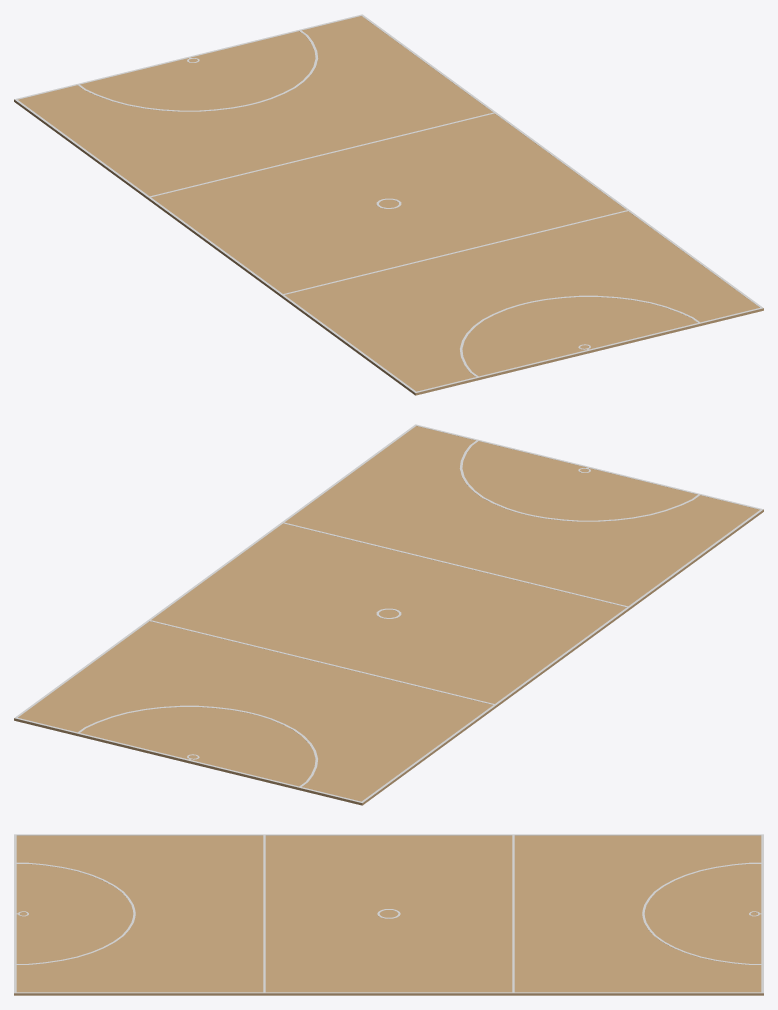
The model's file is Netball Court.fbx.
3 renders of one model, top to bottom at view 1: azimuth 30°, elevation 25°; view 2: azimuth 150°, elevation 25°; view 3: azimuth 270°, elevation 25°, orthographic. The views are drawn at different scales.
Visible parts, largest first — view 1: Netball Court; view 2: Netball Court; view 3: Netball Court.
Boxes of the visible parts, x1,y1,x2,y2 form: Netball Court: [14, 14, 763, 395]; Netball Court: [14, 424, 763, 805]; Netball Court: [14, 834, 763, 995].
Size of the model in its own units: 6120 by 41.59 by 12216.
